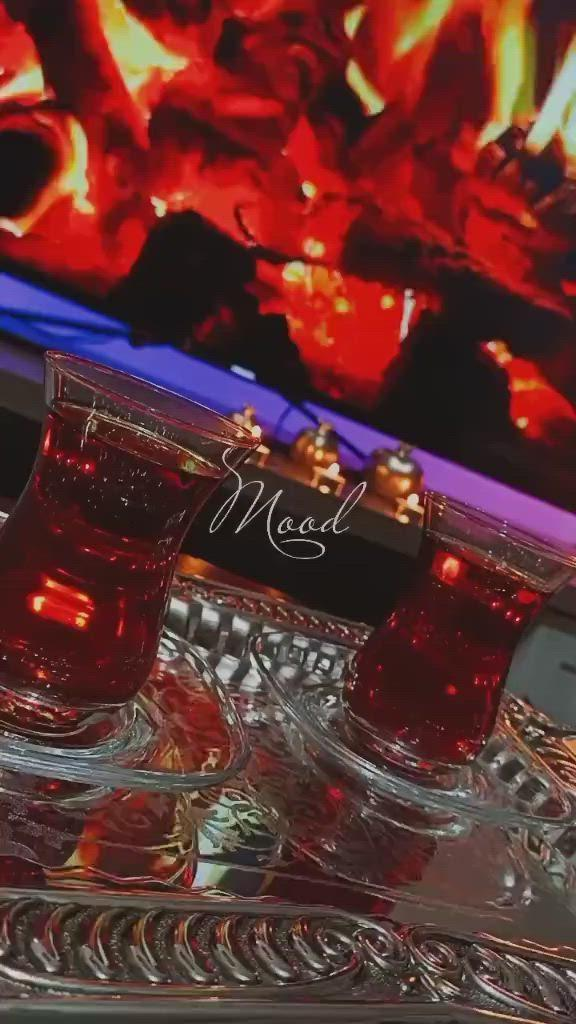glass-normal: (1, 342, 252, 756), (342, 485, 570, 760)
